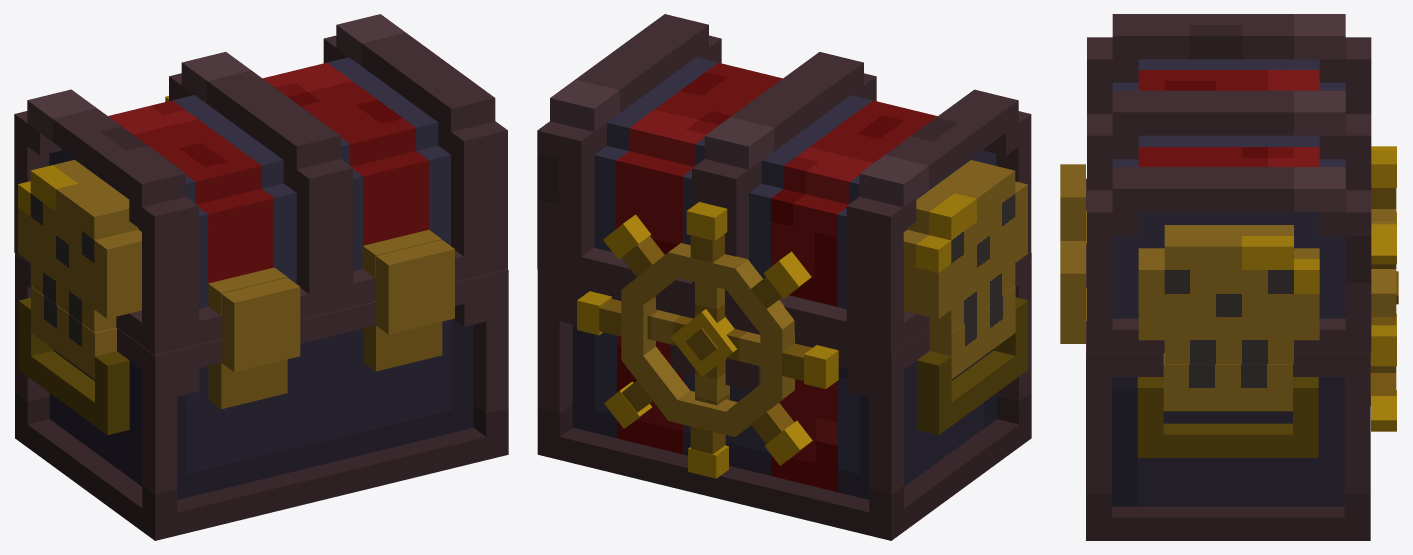
Rendered from chestblackfriday_1x1x1.gltf.
3 views of the same model, side by side, from view 1: azimuth 30°, elevation 25°; view 2: azimuth 150°, elevation 25°; view 3: azimuth 270°, elevation 25° (orthographic).
Visible parts, largest first — view 1: Top-Local, Bottom-Local; view 2: Top-Local, Bottom-Local, w1-Local, x1-Local, x2-Local, x1$$(1)-Local, x4-Local, x4$$(1)-Local, x2$$(1)-Local, x3$$(1)-Local, x3-Local, z-Local (+10 smaller); view 3: Top-Local, Bottom-Local, xx3-Local, x3-Local, xx1$$(1)-Local, x4$$(1)-Local, x2-Local, xx2$$(6)-Local, x1$$(1)-Local, xx3$$(1)-Local, xx2$$(3)-Local.
Part boxes in pixels (box(x1,y1,x2,y2)): Top-Local: box(14, 14, 507, 354); Bottom-Local: box(15, 240, 508, 540); Top-Local: box(537, 14, 1031, 355); Bottom-Local: box(537, 253, 1031, 540); w1-Local: box(647, 282, 760, 405); x1-Local: box(720, 259, 794, 341); x2-Local: box(668, 234, 747, 290); x1$$(1)-Local: box(621, 347, 689, 420); x4-Local: box(760, 320, 812, 398); x4$$(1)-Local: box(599, 290, 655, 364); x2$$(1)-Local: box(668, 390, 737, 454); x3$$(1)-Local: box(720, 379, 794, 444); x3-Local: box(621, 236, 680, 304); z-Local: box(670, 309, 736, 376); Top-Local: box(1087, 14, 1371, 363); Bottom-Local: box(1060, 164, 1370, 540); xx3-Local: box(1371, 153, 1396, 187); x3-Local: box(1371, 220, 1396, 293); xx1$$(1)-Local: box(1371, 231, 1396, 264); x4$$(1)-Local: box(1370, 293, 1396, 363); x2-Local: box(1371, 188, 1396, 220); xx2$$(6)-Local: box(1371, 396, 1396, 429); x1$$(1)-Local: box(1370, 364, 1396, 405); xx3$$(1)-Local: box(1371, 342, 1396, 366); xx2$$(3)-Local: box(1371, 325, 1396, 359).
Size of the model in its own units: 18 by 15.02 by 13.09.
31 materials, 31 textured.
